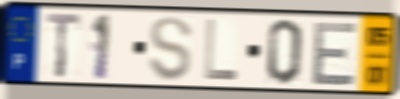0: (264, 17, 305, 88)
1: (90, 12, 113, 82)
E: (309, 20, 360, 87)
L: (202, 17, 240, 83)
S: (146, 14, 195, 84)
T: (44, 11, 84, 81)
